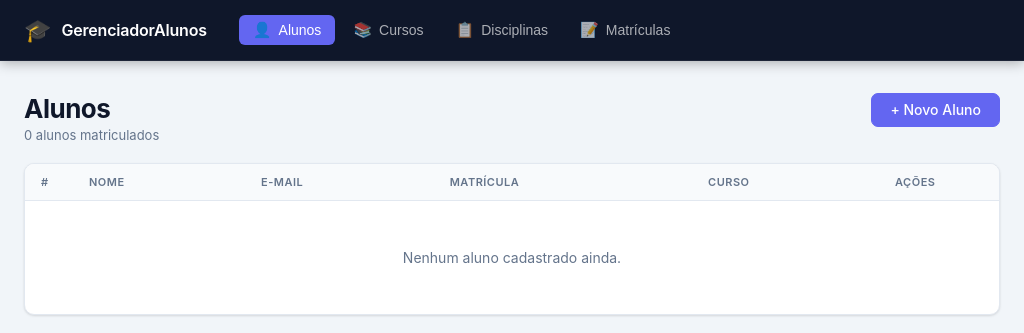
App › navega para Cursos ao clicar na aba
Step 1. Click the button "📚 Cursos" → (388, 30), box [339,15,438,45]
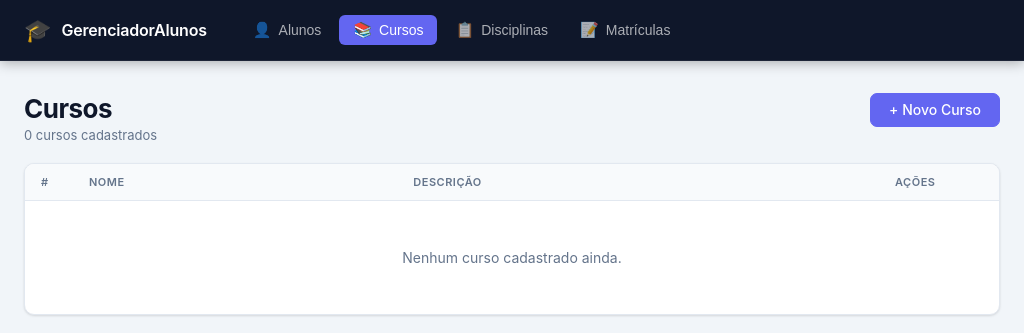
Expected: the text "cursos cadastrados" is shown, [24,127,157,143]
